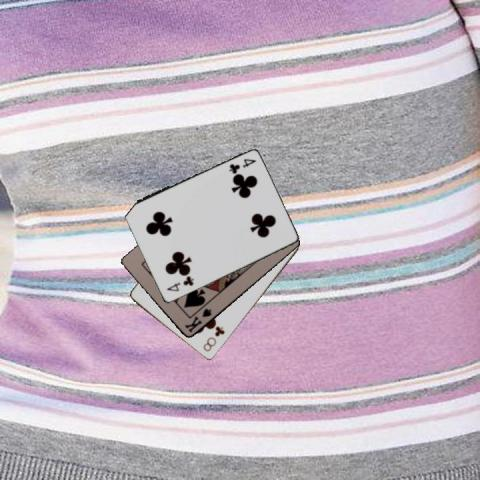4c: (164, 273, 195, 294), (226, 156, 257, 175)
8c: (200, 324, 226, 354)
Ks: (182, 305, 214, 334)
